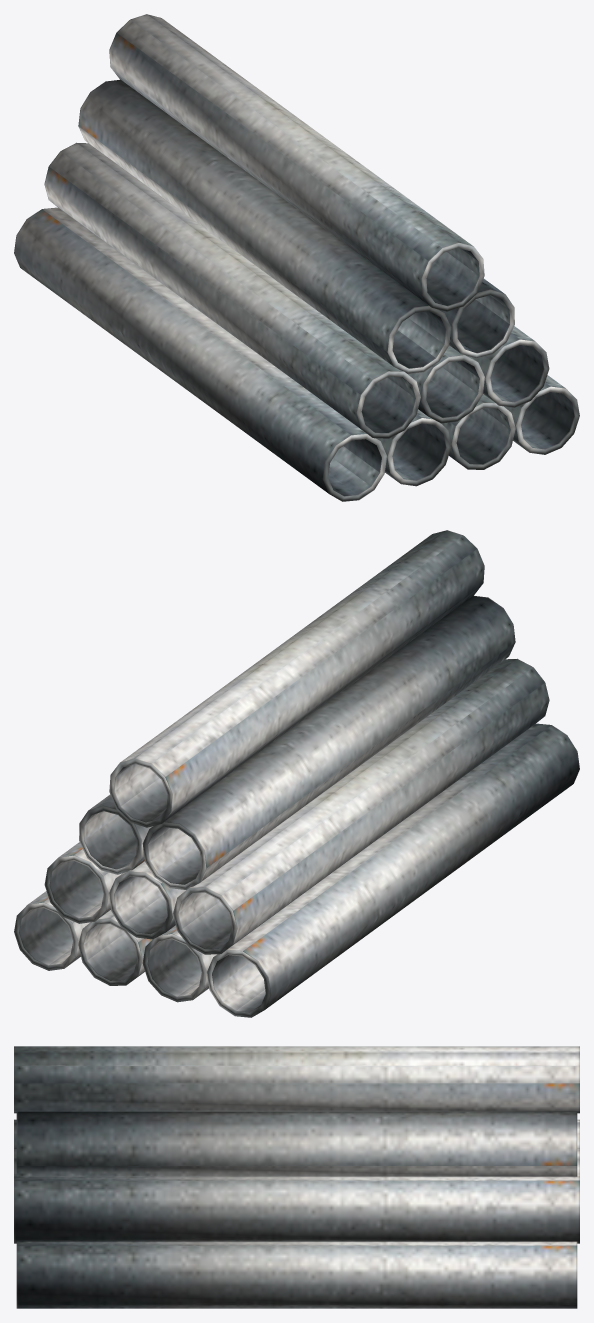
The model's file is metalpipepile.glb.
3 renders of one model, top to bottom at view 1: azimuth 30°, elevation 25°; view 2: azimuth 150°, elevation 25°; view 3: azimuth 270°, elevation 25°, orthographic. The views are drawn at different scales.
Parts seen in each view (by area): view 1: MetalPipePile; view 2: MetalPipePile; view 3: MetalPipePile.
Part boxes in pixels (bbox=[...]): MetalPipePile: bbox=[14, 14, 579, 501]; MetalPipePile: bbox=[14, 530, 579, 1017]; MetalPipePile: bbox=[14, 1046, 579, 1308].
Size of the model in its own units: 1.2 by 1.05 by 2.53.
1 material, 1 textured.
